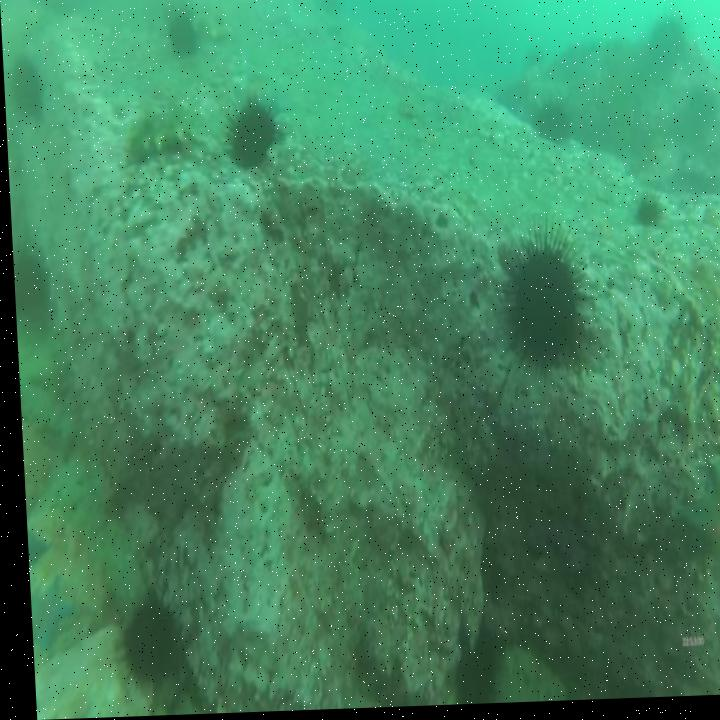echinus: (502, 231, 585, 380), (116, 606, 182, 685), (228, 100, 276, 169), (10, 56, 44, 117), (538, 97, 572, 148), (168, 17, 195, 59), (633, 200, 658, 234)
holothurian: (498, 650, 555, 706), (128, 114, 196, 156)
starfish: (680, 466, 720, 578), (27, 578, 67, 650)
